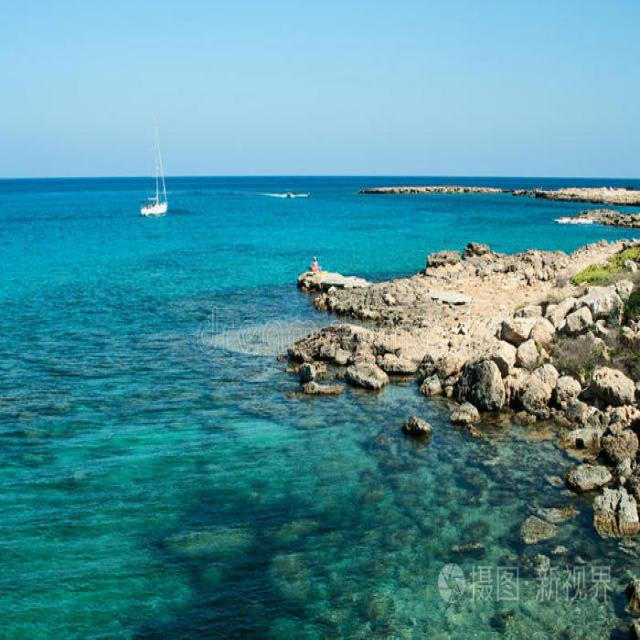reef: (276, 227, 499, 420), (349, 174, 477, 204)
sailboat: (136, 126, 178, 228)
